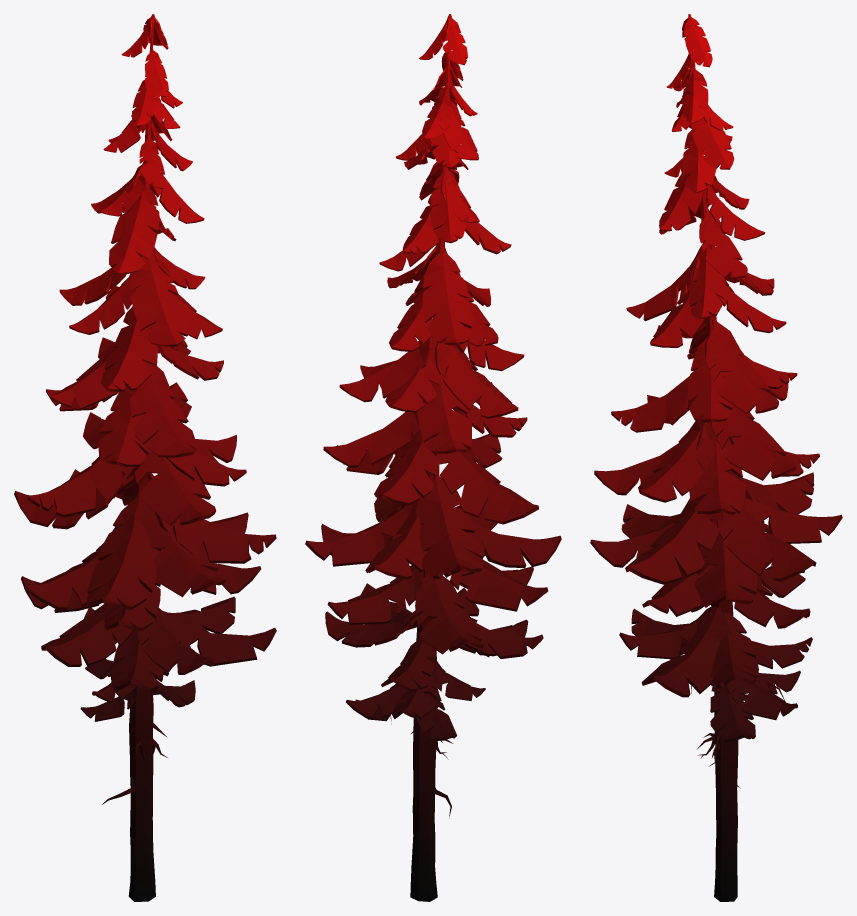
Rendered from TreeSpruceTall03.fbx.
3 renders of one model, left to right at view 1: azimuth 30°, elevation 25°; view 2: azimuth 150°, elevation 25°; view 3: azimuth 270°, elevation 25°, orthographic. The views are drawn at different scales.
Visible parts, largest first — view 1: TreeSpruceTall03_LOD0; view 2: TreeSpruceTall03_LOD0; view 3: TreeSpruceTall03_LOD0.
Boxes of the visible parts, <box> form: TreeSpruceTall03_LOD0: <box>14,14,276,901</box>; TreeSpruceTall03_LOD0: <box>305,14,561,901</box>; TreeSpruceTall03_LOD0: <box>590,14,842,901</box>.
Size of what is drawn, in the model's own units: 338 by 1264 by 329.
